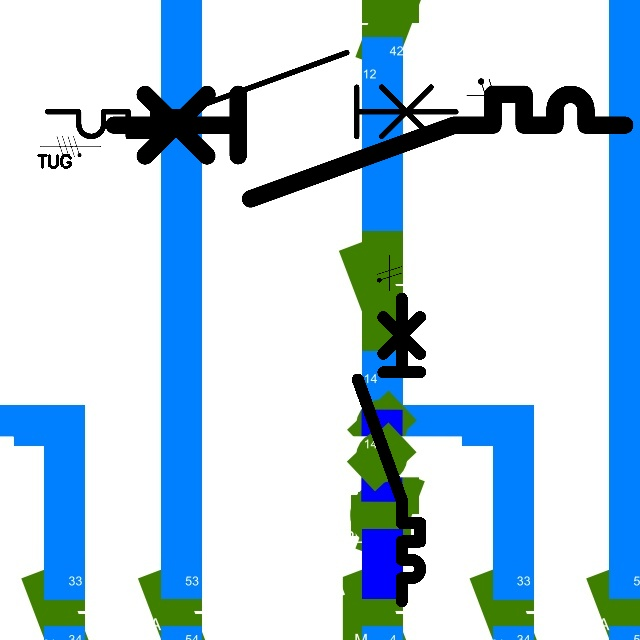interruptor_termomagnetico: (100, 81, 637, 212), (37, 42, 466, 147), (350, 290, 428, 608)
